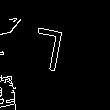L_S: (36, 27, 74, 83)
